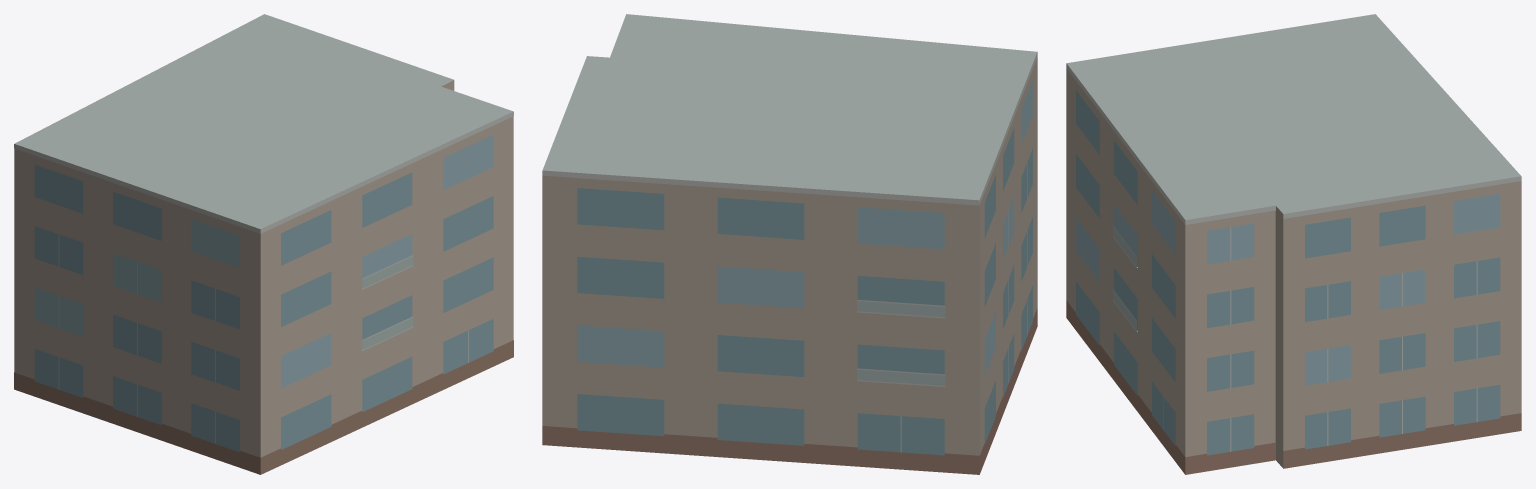
The model's file is survey-upis-32793280.glb.
3 renders of one model, left to right at view 1: azimuth 30°, elevation 25°; view 2: azimuth 150°, elevation 25°; view 3: azimuth 270°, elevation 25°, orthographic. The views are drawn at different scales.
Visible parts, largest first — view 1: survey-upis-32793280.tmp; view 2: survey-upis-32793280.tmp; view 3: survey-upis-32793280.tmp.
Part boxes in pixels (x1=…): survey-upis-32793280.tmp: x1=14, y1=14, x2=513, y2=474; survey-upis-32793280.tmp: x1=542, y1=14, x2=1037, y2=474; survey-upis-32793280.tmp: x1=1066, y1=14, x2=1521, y2=474.
Size of the model in its own units: 22.25 by 12.8 by 20.74.
